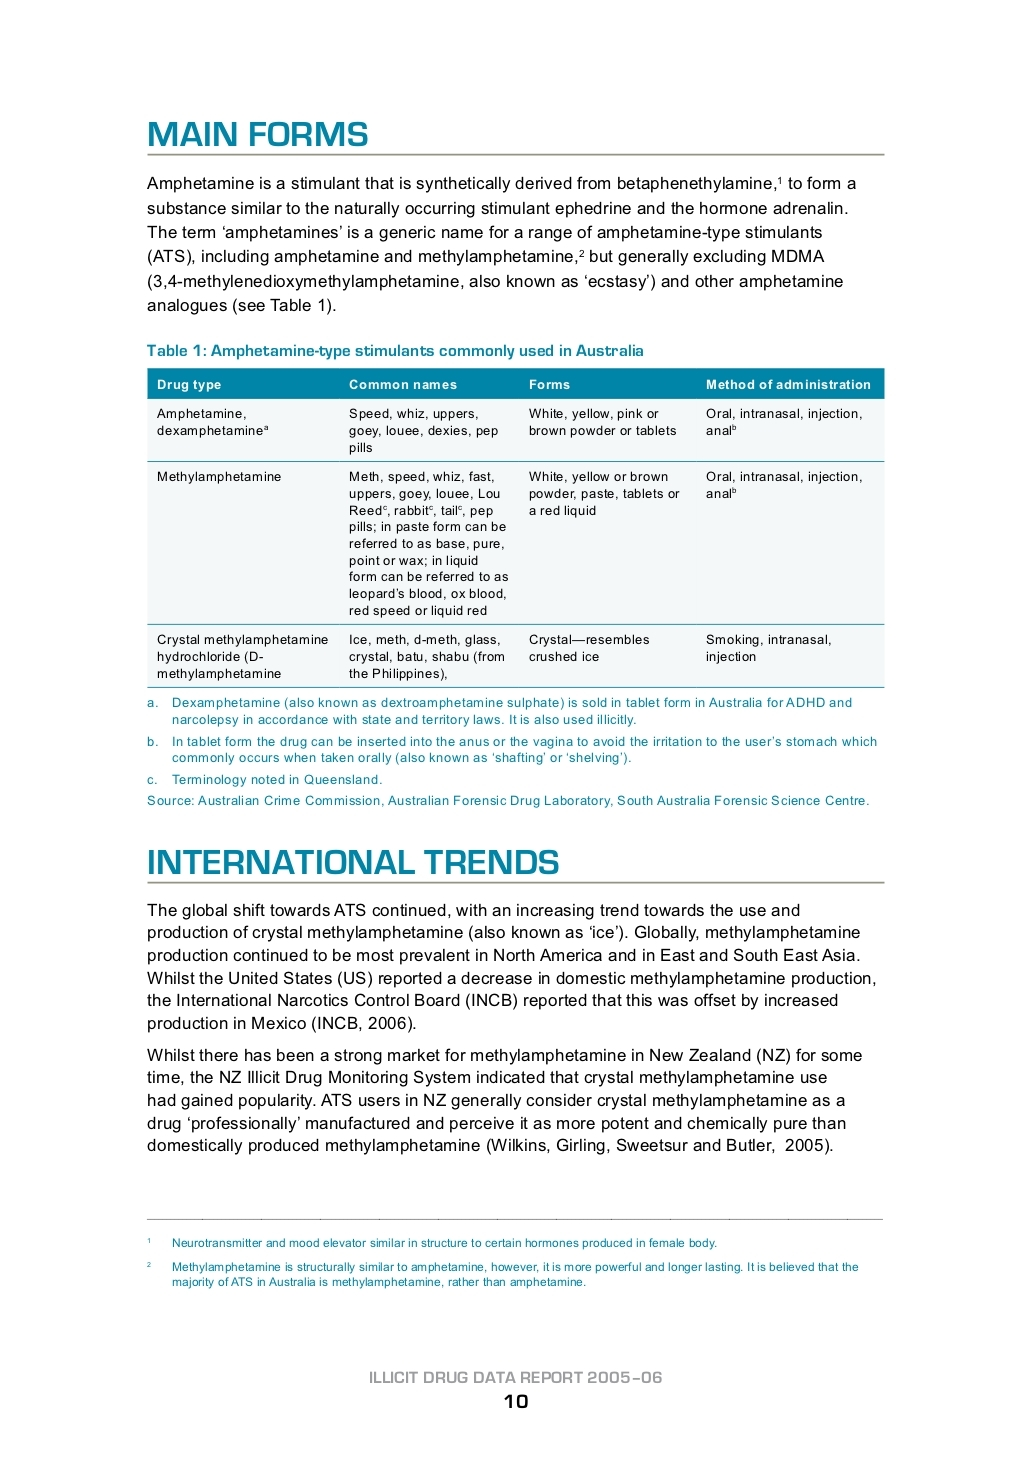Table: (147, 368, 883, 687)
